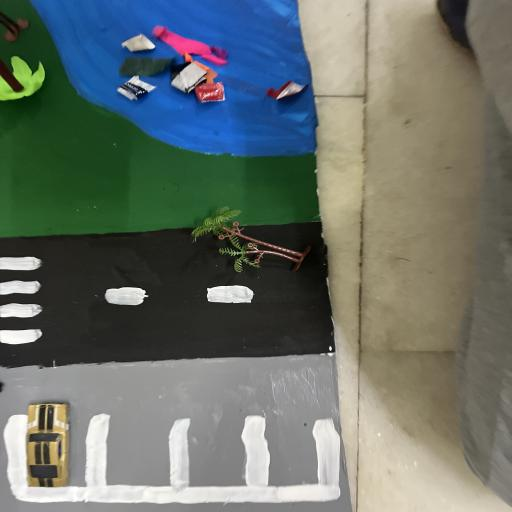fallen trees: (190, 204, 310, 278)
porthole: (108, 30, 304, 114)
